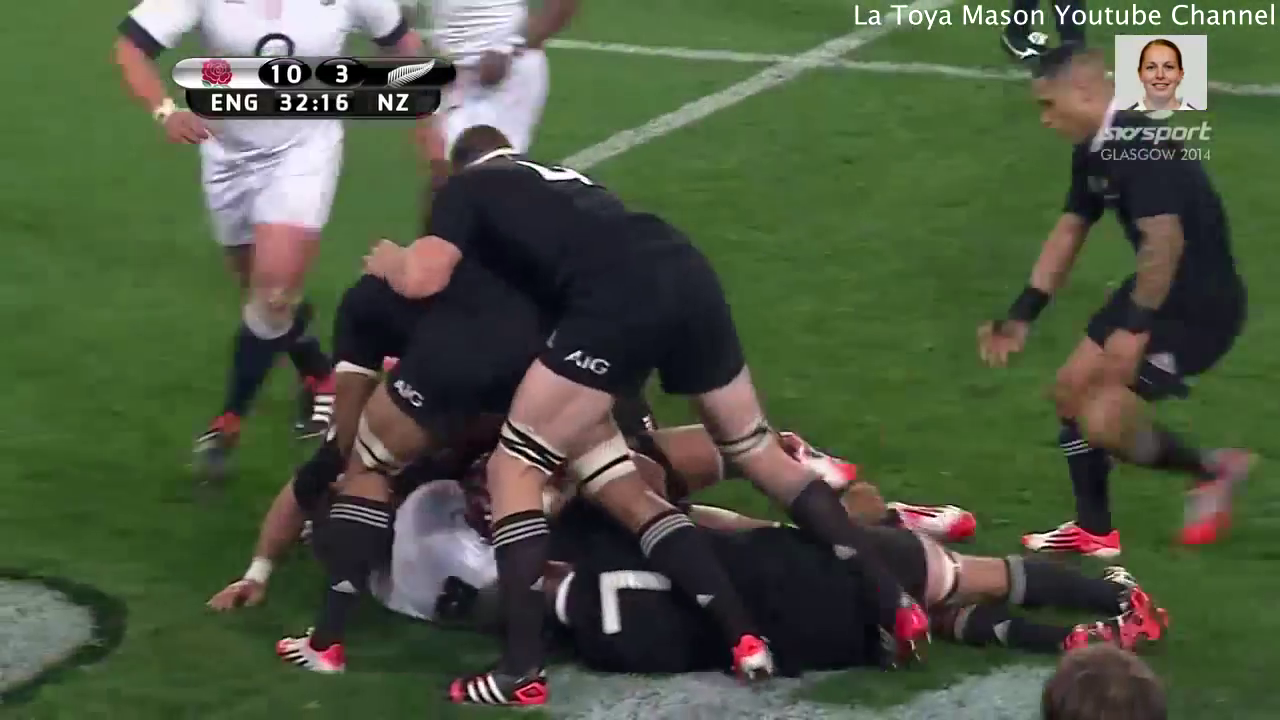player: (413, 122, 936, 676), (973, 36, 1258, 555), (492, 533, 1137, 653), (176, 122, 344, 487), (422, 1, 565, 159)
ruck: (290, 188, 994, 664)
